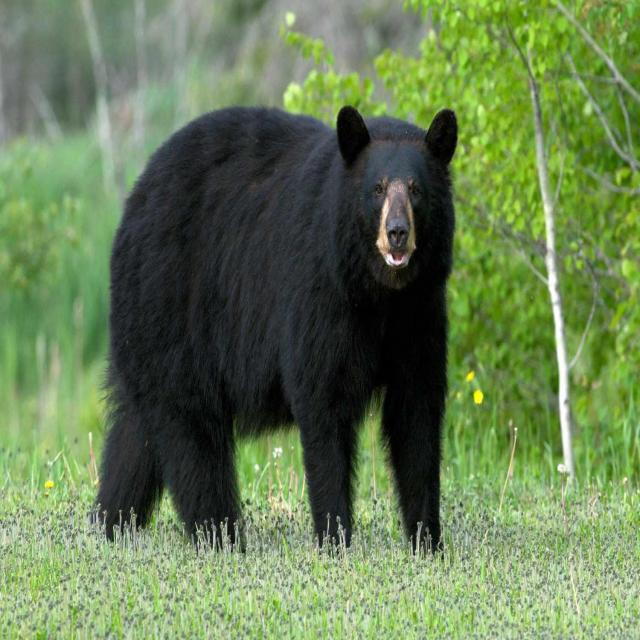Bear: (90, 107, 460, 556)
